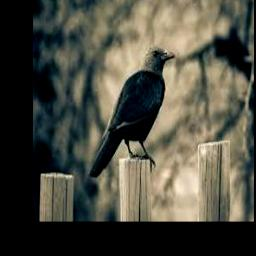Crow: (87, 45, 175, 178)
